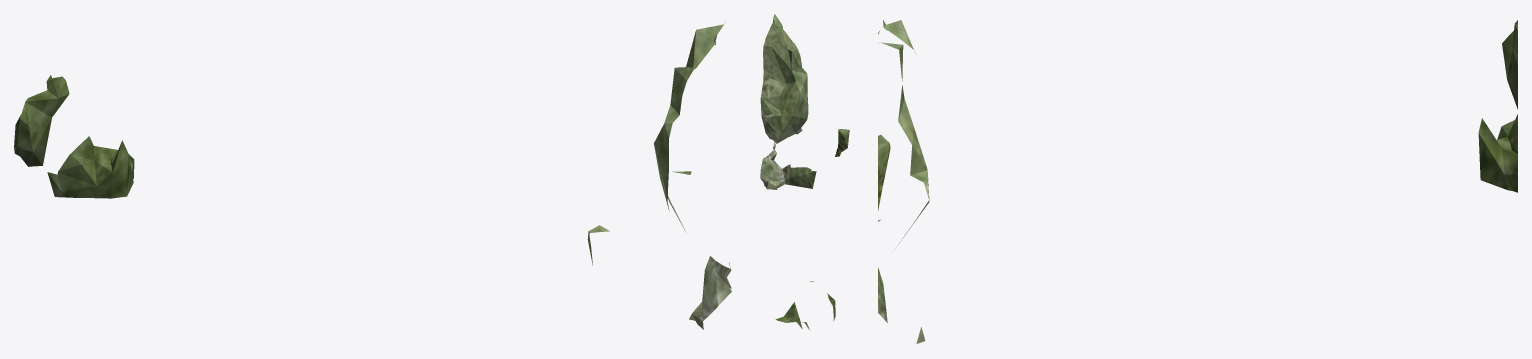
3 renders of one model, left to right at view 1: azimuth 30°, elevation 25°; view 2: azimuth 150°, elevation 25°; view 3: azimuth 270°, elevation 25°, orthographic. The views are drawn at different scales.
Bounding box in the file's own units: 4.67 × 3.37 × 5.9.
1 material, 1 textured.
